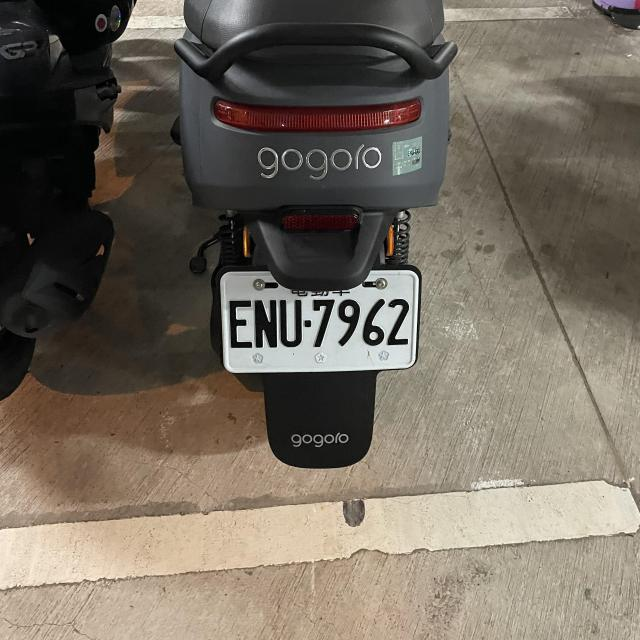W: (218, 270, 421, 374)
